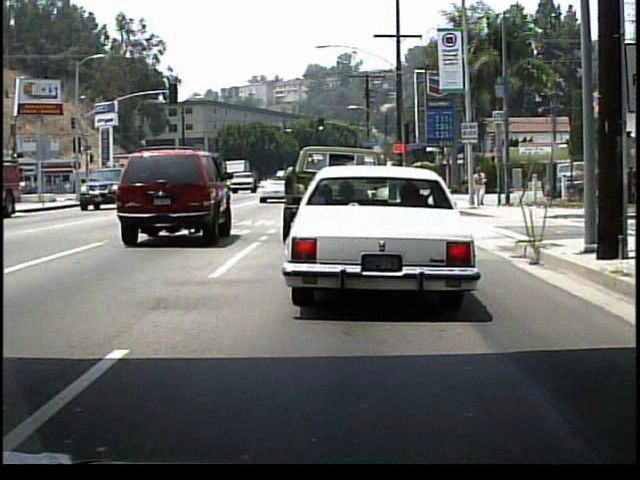person: (474, 167, 489, 209)
